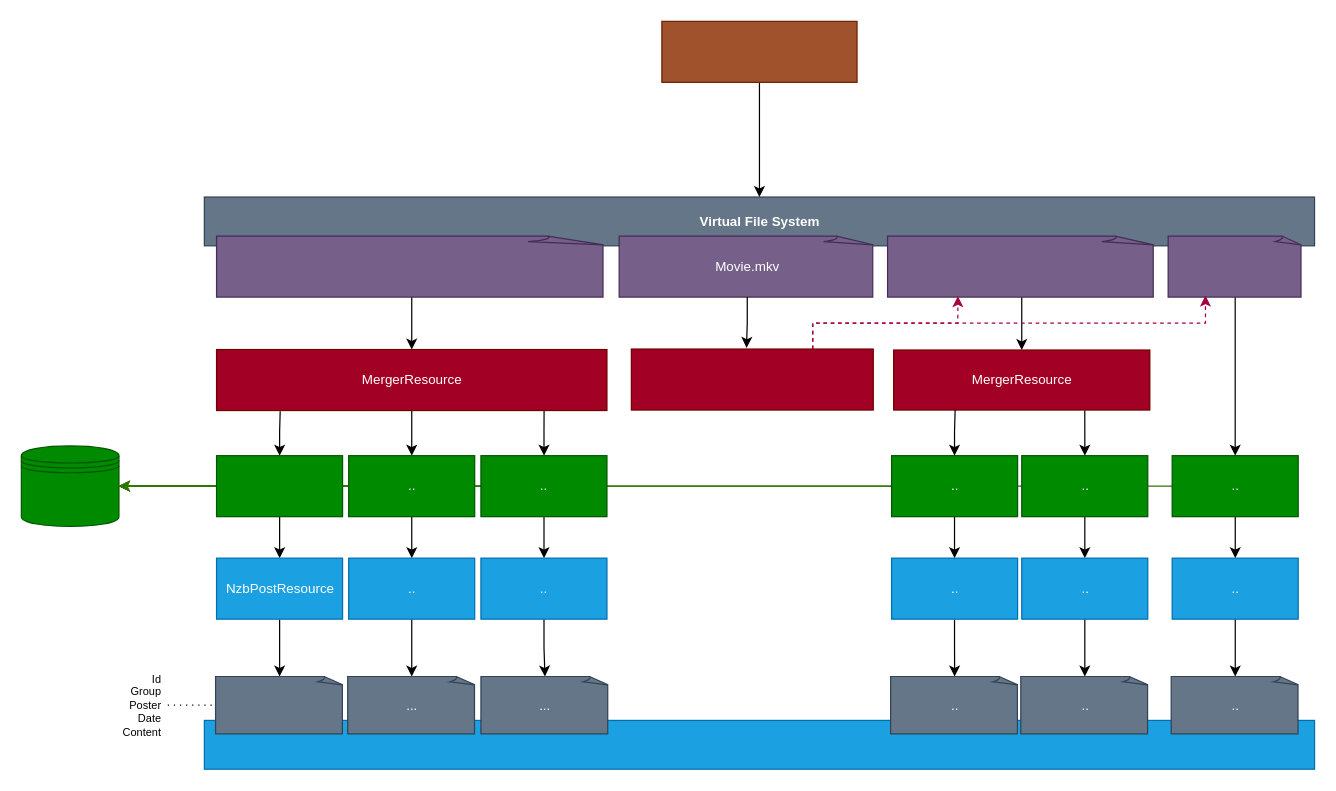
Image size: 1336x791. Some labels were removed from this diagram. Here are the shapes that lost their labels. From the top down, the box of each, then its label:
(661, 20, 857, 82): WebDAV
(215, 235, 607, 297): Ubuntu.iso
(886, 235, 1156, 297): Movie.part1.rar
(1167, 235, 1302, 297): Movie.part2.rar
(630, 348, 873, 410): UnrarFileStreamerResource
(20, 445, 119, 526): Cache
(215, 454, 343, 517): FullCacheResource
(214, 675, 344, 734): Post
(203, 719, 1315, 769): Newsserver
